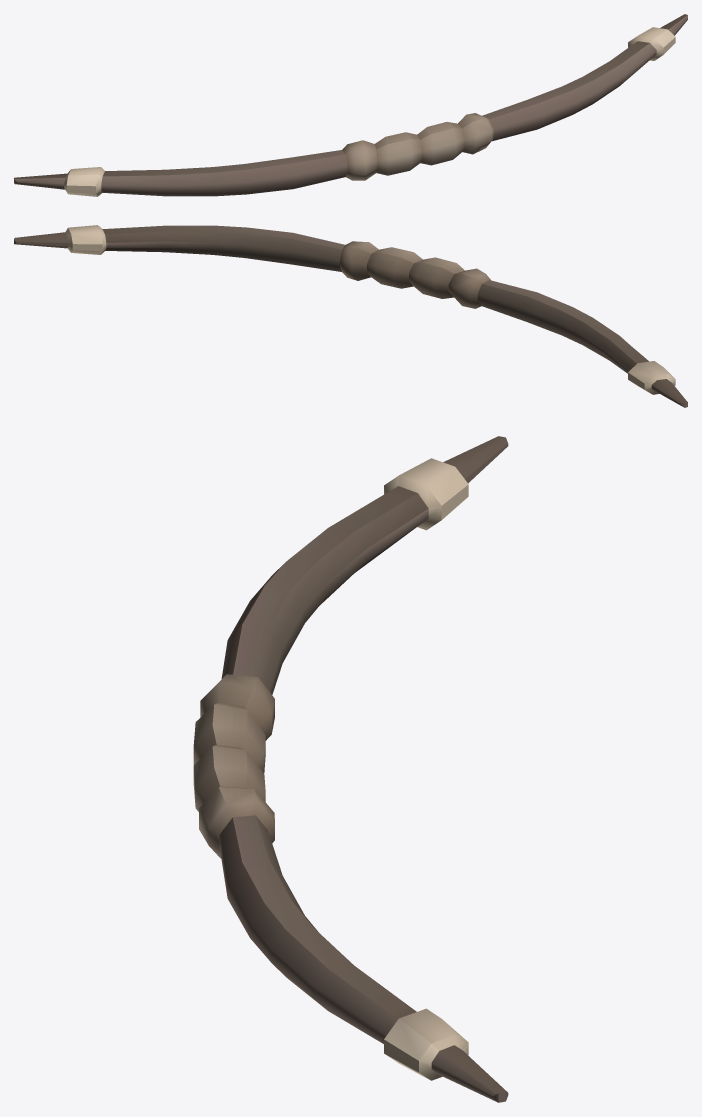
File: kk_bow_A.glb
3 renders of one model, top to bottom at view 1: azimuth 30°, elevation 25°; view 2: azimuth 150°, elevation 25°; view 3: azimuth 270°, elevation 25°, orthographic. The views are drawn at different scales.
Parts seen in each view (by area): view 1: bow_A; view 2: bow_A; view 3: bow_A.
Part boxes in pixels (bbox=[...]): bow_A: bbox=[14, 14, 687, 196]; bow_A: bbox=[14, 225, 687, 407]; bow_A: bbox=[193, 436, 508, 1102].
Size of the model in its own units: 1.96 by 0.0915 by 0.3957.
Materials: 1 (1 with a texture image).
